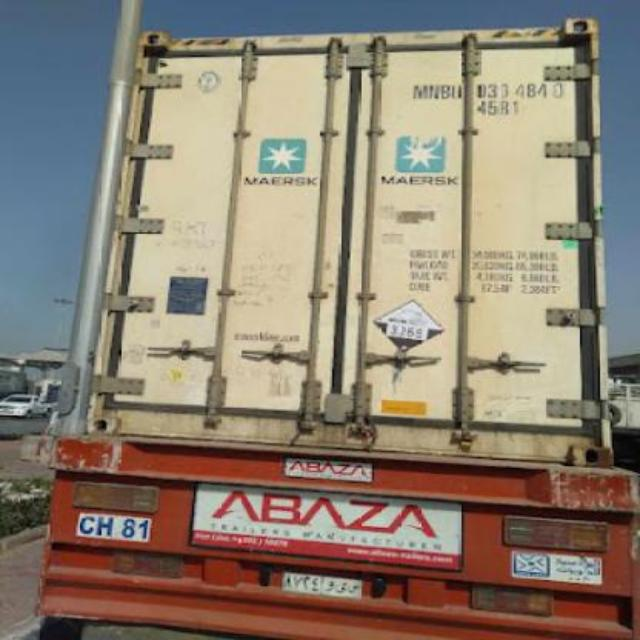0: (550, 76, 570, 104), (474, 80, 488, 100), (498, 80, 508, 100)
3: (488, 78, 496, 100)
4: (536, 75, 548, 101), (514, 81, 528, 102)
8: (526, 78, 536, 102)
B: (440, 81, 448, 102)
M: (408, 80, 428, 104)
N: (426, 79, 438, 109)
U: (451, 79, 464, 105)
